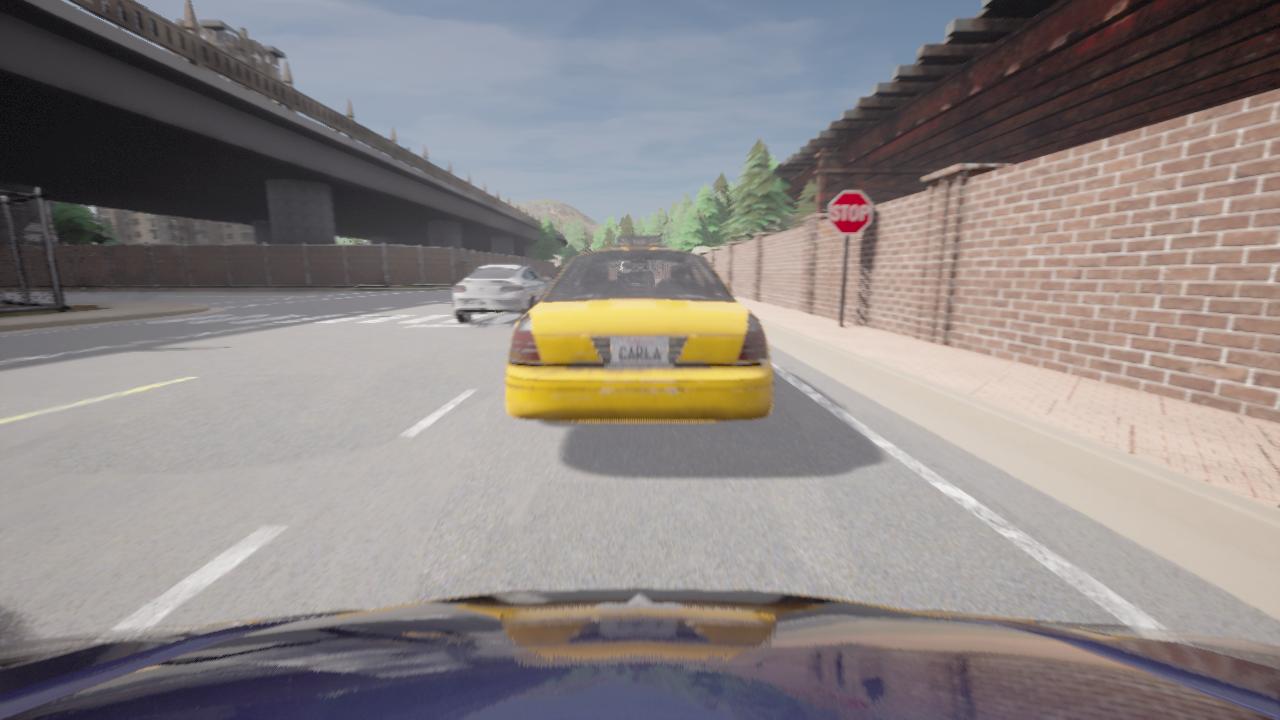cyclist: (0, 588, 1279, 719), (504, 235, 773, 421), (452, 263, 550, 322)
